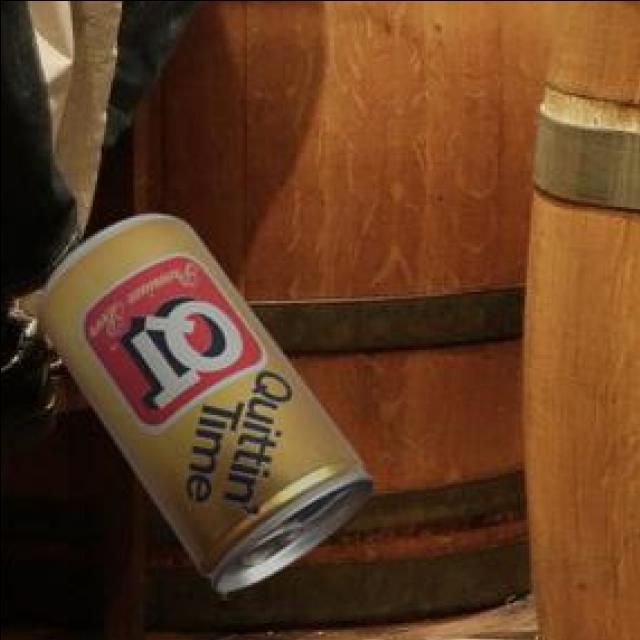logam: (35, 211, 370, 587)
